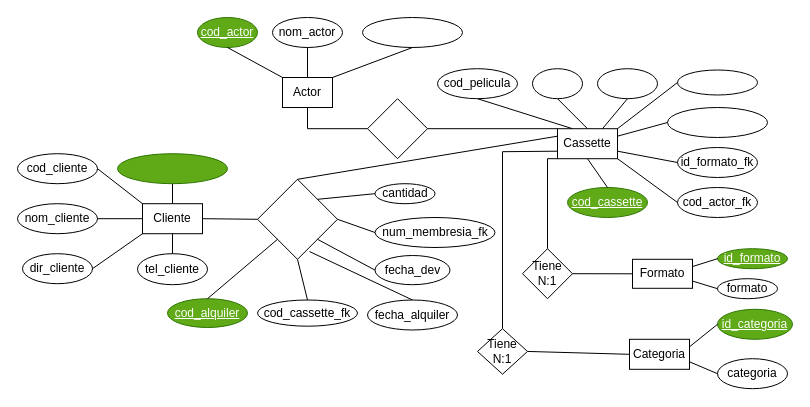
Some shapes in this 810 by 407 pixel diagram are drawn without their labels. The centre of each missing label's shape, as x and y in pixels:
"alquilar N:M" goes at pixel 297 218.
"cod_tipo" goes at pixel 627 83.
"Esta 1:N" goes at pixel 397 128.
"fechanac_actor" goes at pixel 412 32.
"id_categoria_fk" goes at pixel 717 122.
"num_copias" goes at pixel 717 82.
"num_membresia" goes at pixel 172 168.
"titulo" goes at pixel 557 83.
